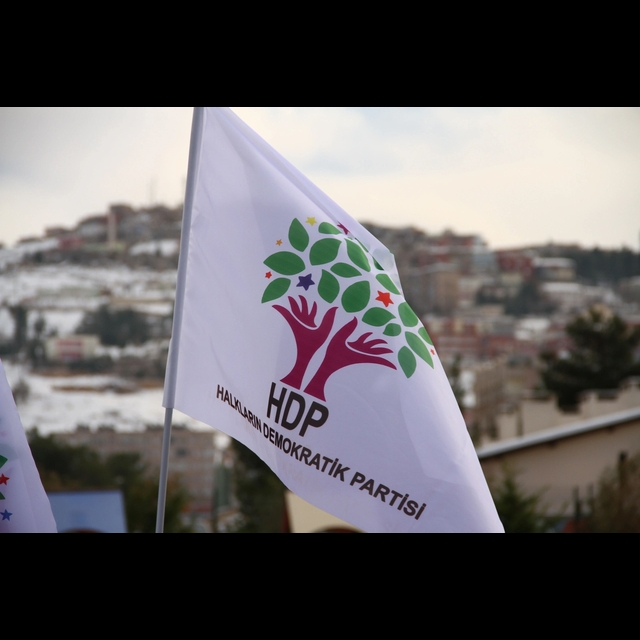HDP: (246, 207, 438, 395)
